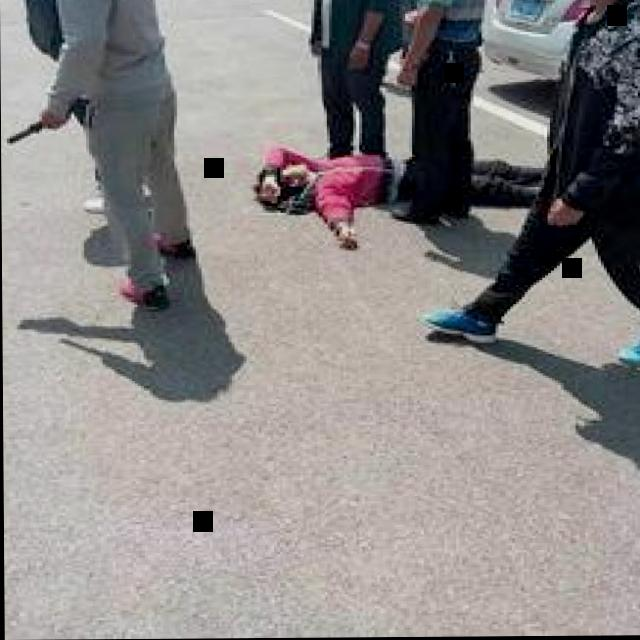Fall-Detected: (226, 123, 577, 245)
